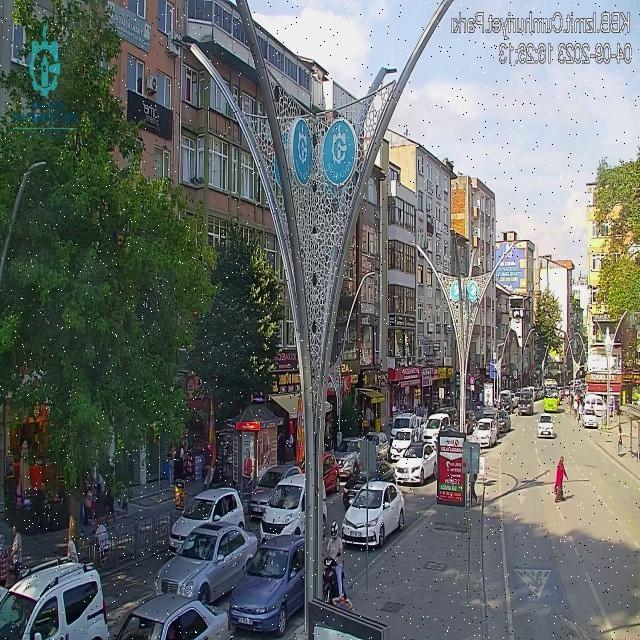Car: (151, 521, 257, 605), (2, 557, 106, 639), (226, 532, 306, 636), (110, 591, 232, 638), (170, 486, 248, 553), (340, 480, 404, 550), (259, 473, 312, 542), (393, 441, 438, 485), (330, 438, 364, 480), (389, 427, 418, 460), (364, 432, 391, 464), (470, 419, 498, 449), (322, 453, 340, 495), (582, 394, 607, 418), (536, 414, 555, 440), (480, 407, 499, 427), (516, 394, 534, 415), (497, 409, 512, 433), (582, 408, 599, 428), (498, 390, 514, 410), (523, 387, 537, 402)
Van: (422, 412, 452, 446)
